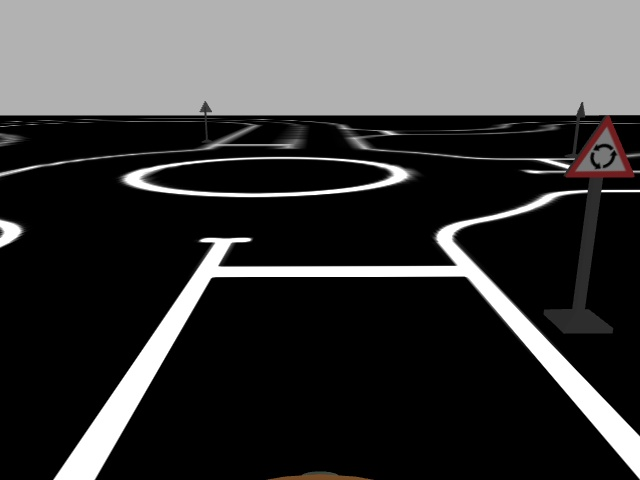roundabout: (562, 114, 635, 179)
